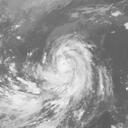cyclone: (36, 35, 95, 99)
